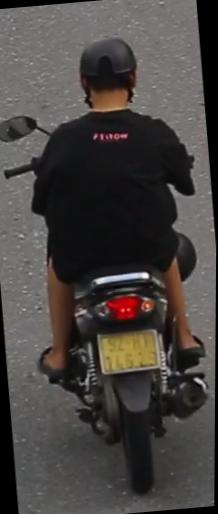LP: (94, 322, 166, 376)
helmet: (73, 32, 144, 122)
